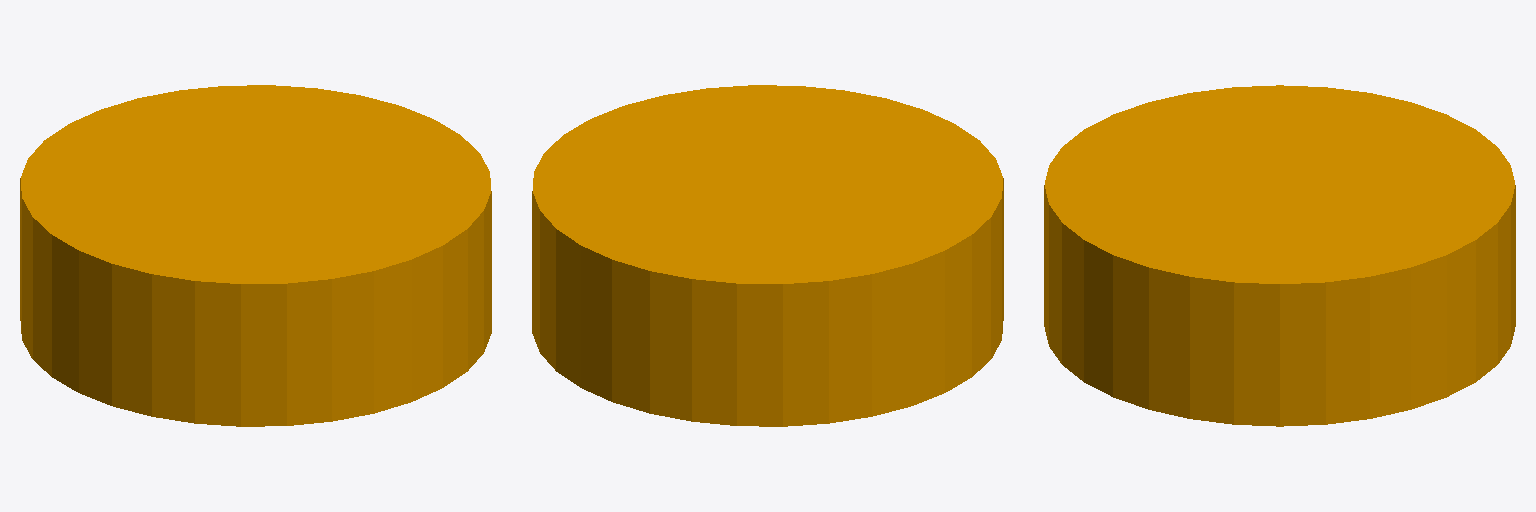
robot.urdf — simple_oven:
<robot name="simple_oven">
  <link name="my_oven">
    <inertial>
      <mass value="0.1" />
      <inertia ixx="1.0" ixy="0.0" ixz="0.0" iyy="1.0" iyz="0.0" izz="1.0" />
    </inertial>

    <visual>
      <origin rpy="0 0 0" xyz="0 0 0"/>
      <geometry>
        <cylinder radius='0.15' length='0.1'/>
      </geometry>
    </visual>

    <collision>
      <origin rpy="0 0 0" xyz="0 0 0"/>
      <geometry>
        <cylinder radius='0.15' length='0.1'/>
      </geometry>
    </collision>
  </link>
  <gazebo reference="my_oven">
    <material>Gazebo/Blue</material>
  </gazebo>
</robot>

--- Render facts (derived) ---
3 views of the same robot in one strip: view 1: azimuth 30°, elevation 25°; view 2: azimuth 150°, elevation 25°; view 3: azimuth 270°, elevation 25° (orthographic).
Robot: simple_oven — 1 links, 0 joints (none); root link my_oven; default pose: all joints at 0.
Visible links, largest first — view 1: my_oven; view 2: my_oven; view 3: my_oven.
Boxes of the visible links, left/top/right/bottom form: my_oven: left=20, top=85, right=491, bottom=426; my_oven: left=532, top=85, right=1003, bottom=426; my_oven: left=1044, top=85, right=1515, bottom=426.
Size in the robot's own frame: 0.3 by 0.3 by 0.1 metres.
Geometry: primitives only (box / cylinder / sphere), no mesh files.